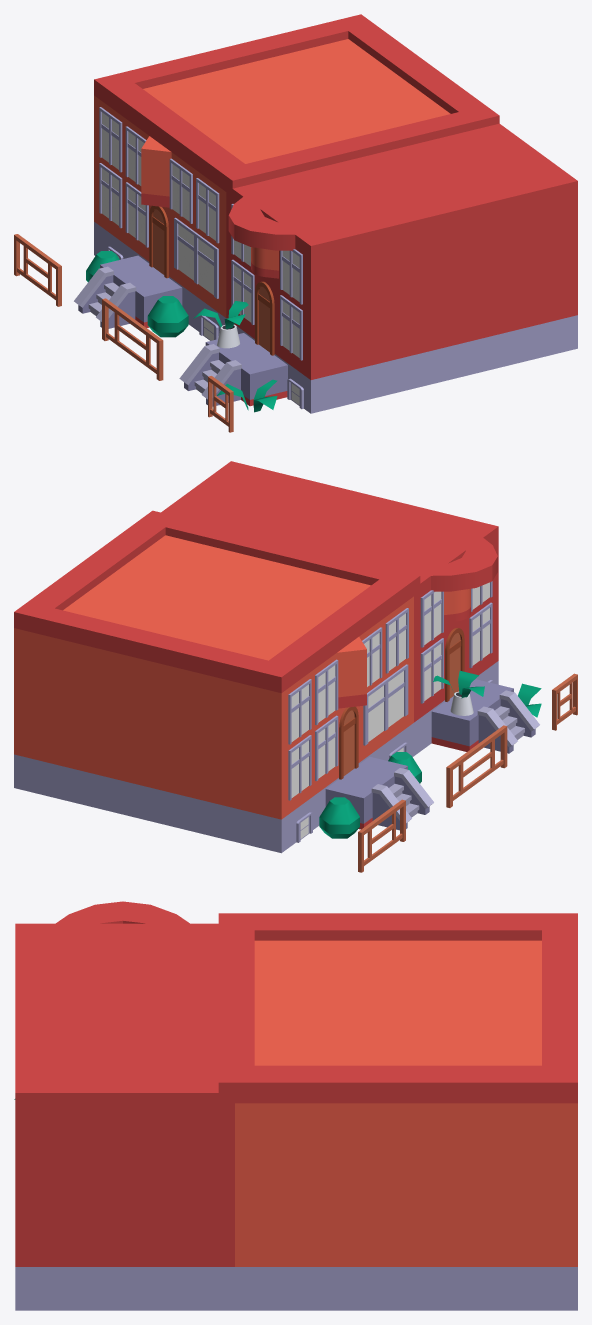
Rendered from brownstone.glb.
The picture shows the model from 3 angles, top to bottom: view 1: azimuth 30°, elevation 25°; view 2: azimuth 150°, elevation 25°; view 3: azimuth 270°, elevation 25°; orthographic projection. The views are drawn at different scales.
Parts seen in each view (by area): view 1: mergedBlocks(Clone); view 2: mergedBlocks(Clone); view 3: mergedBlocks(Clone).
Boxes of the visible parts, x1,y1,x2,y2 form: mergedBlocks(Clone): [14, 14, 577, 432]; mergedBlocks(Clone): [14, 461, 577, 872]; mergedBlocks(Clone): [14, 901, 577, 1310].
Bounding box in the file's own units: 4.55 × 2.2 × 4.93.
